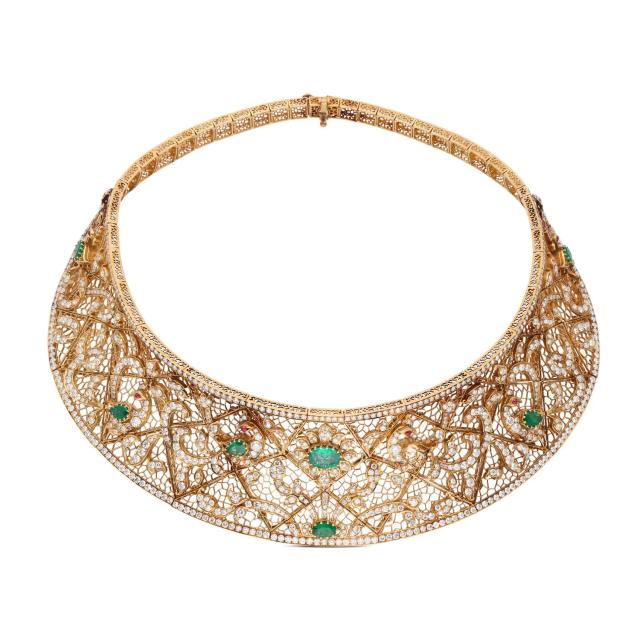missing gem: (403, 444, 422, 457)
